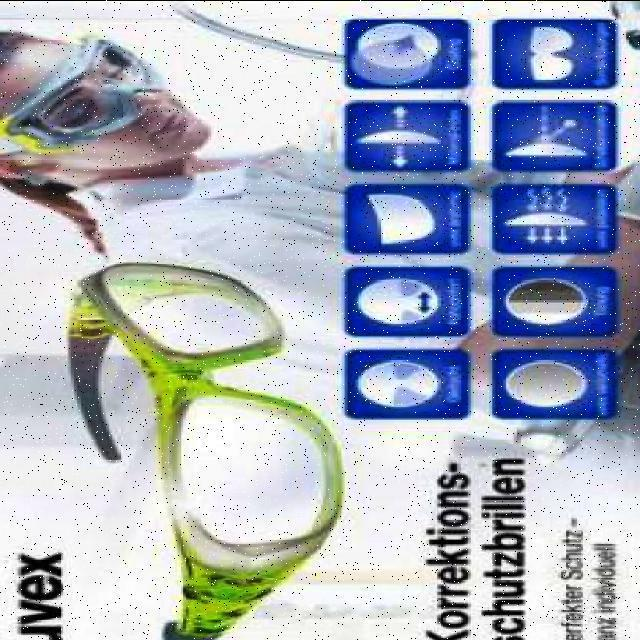Goggles: (65, 257, 345, 639), (1, 14, 157, 151)
